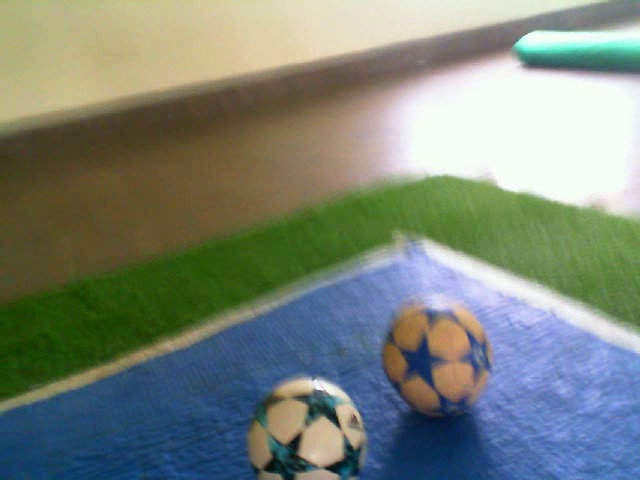ball: (378, 293, 499, 422), (241, 369, 372, 480)
